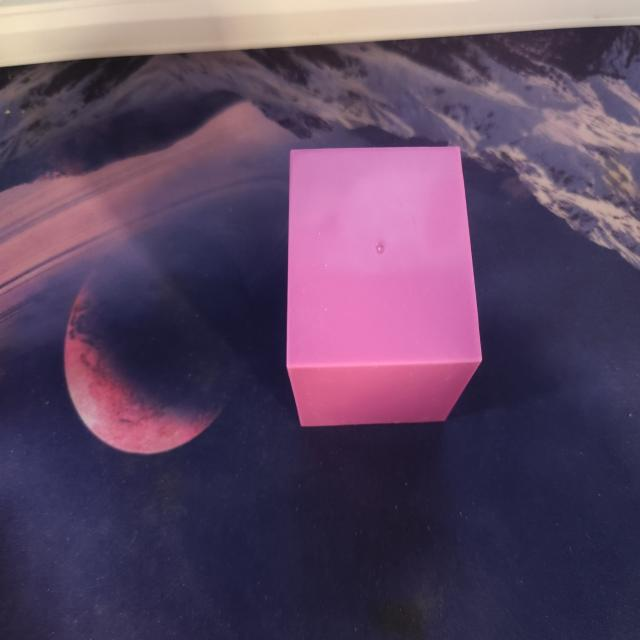pink: (278, 138, 488, 432)
